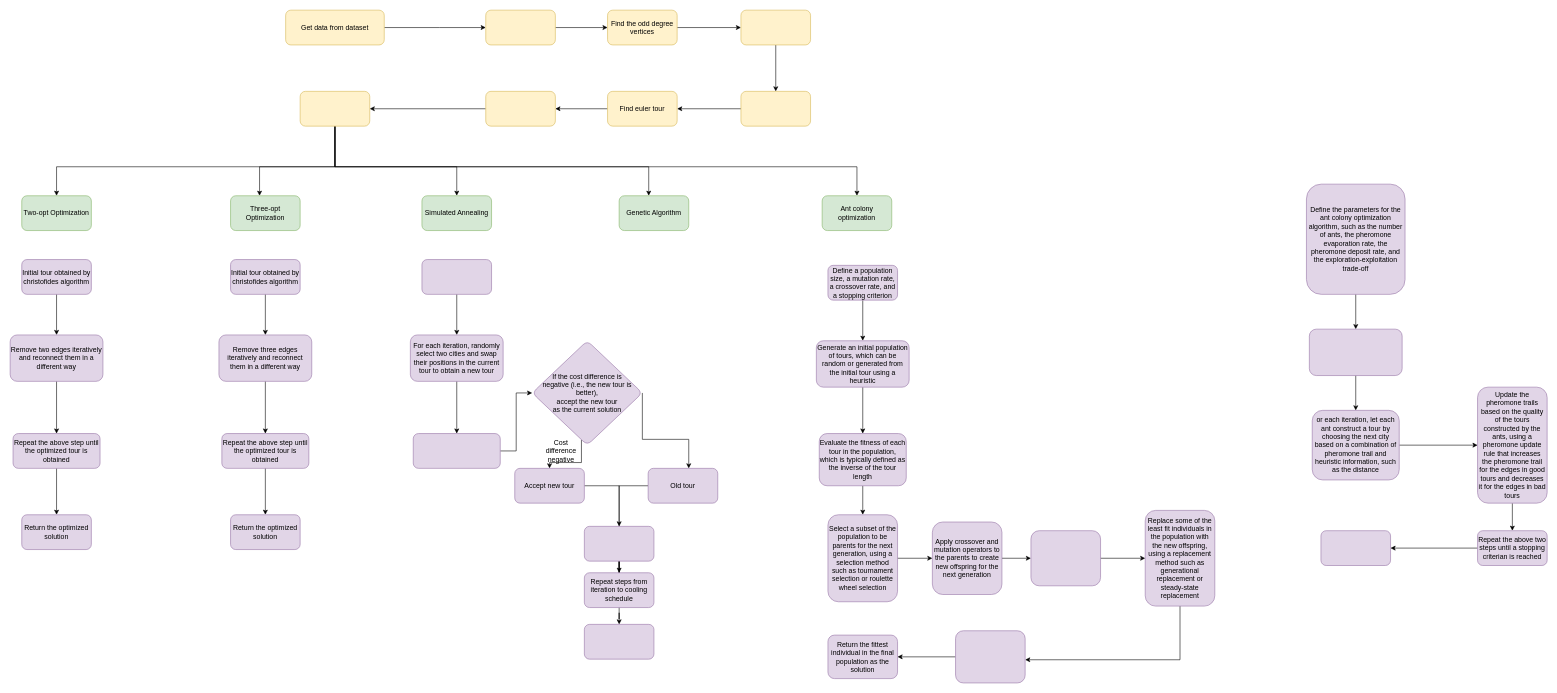
The diagram is 1557 pixels wide and 693 high, and some of its shapes have lost their labels. The shapes that lost their labels are listed below. From the top down, each one's centre as x and y in pixels, then its label:
the point at 520,27: Find the minimum spanning tree
the point at 775,27: Find minimum weight perfect matching
the point at 335,108: Shortest path obtained using Christofides Algorithm
the point at 520,108: Convert euler tour to hamilton tour
the point at 775,108: Combine MST and Matching
the point at 456,276: Define an initial temperature, a cooling schedule, and a stopping criterion
the point at 1355,352: Initialize the pheromone trails for each edge in the graph
the point at 456,450: Calculate the cost difference between the new tour and the current tour
the point at 619,543: Decrease temperature according to cooling schedule
the point at 1065,558: Evaluate the fitness of the offspring and add them to the population
the point at 1355,548: Return the best tour found by the ants as the solution
the point at 619,641: Return the final solution
the point at 990,656: Repeat steps from Select a subset to replace a least fit individuals
